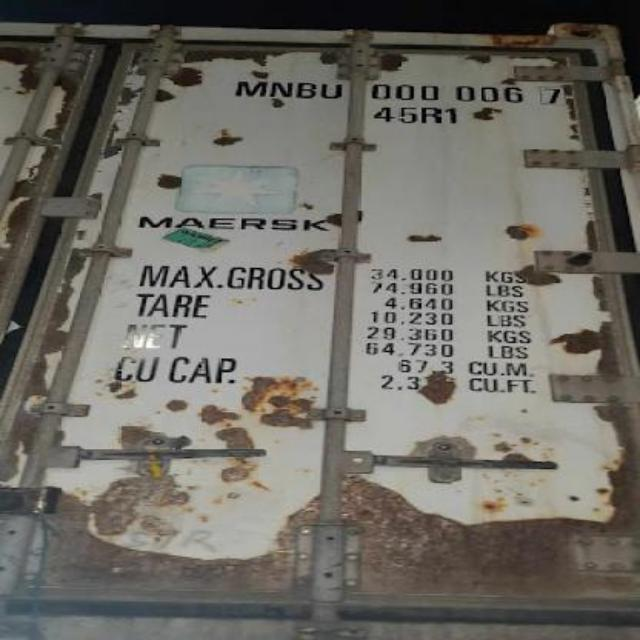0: (452, 82, 480, 106), (472, 83, 502, 103), (372, 78, 394, 104), (420, 82, 448, 102), (396, 83, 418, 101)
6: (502, 82, 530, 106)
7: (540, 84, 572, 108)
B: (296, 78, 322, 100)
M: (230, 78, 270, 99)
N: (270, 80, 296, 98)
U: (320, 80, 350, 104)
